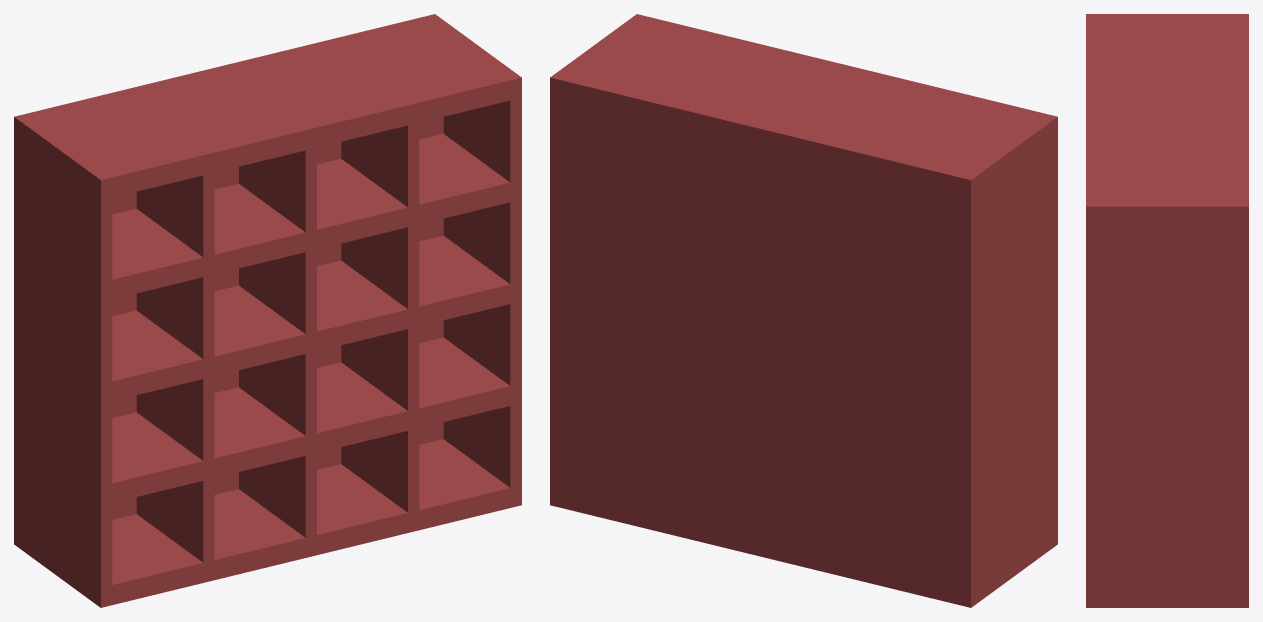
The model's file is Bookshelf.fbx.
3 views of the same model, side by side, from view 1: azimuth 30°, elevation 25°; view 2: azimuth 150°, elevation 25°; view 3: azimuth 270°, elevation 25° (orthographic). The views are drawn at different scales.
Visible parts, largest first — view 1: pCube1; view 2: pCube1; view 3: pCube1.
Part boxes in pixels (x1,y1,x2,y2): pCube1: (14, 14, 521, 607); pCube1: (550, 14, 1057, 607); pCube1: (1086, 14, 1248, 607).
Bounding box in the file's own units: 1.44 × 1.4 × 0.514.
